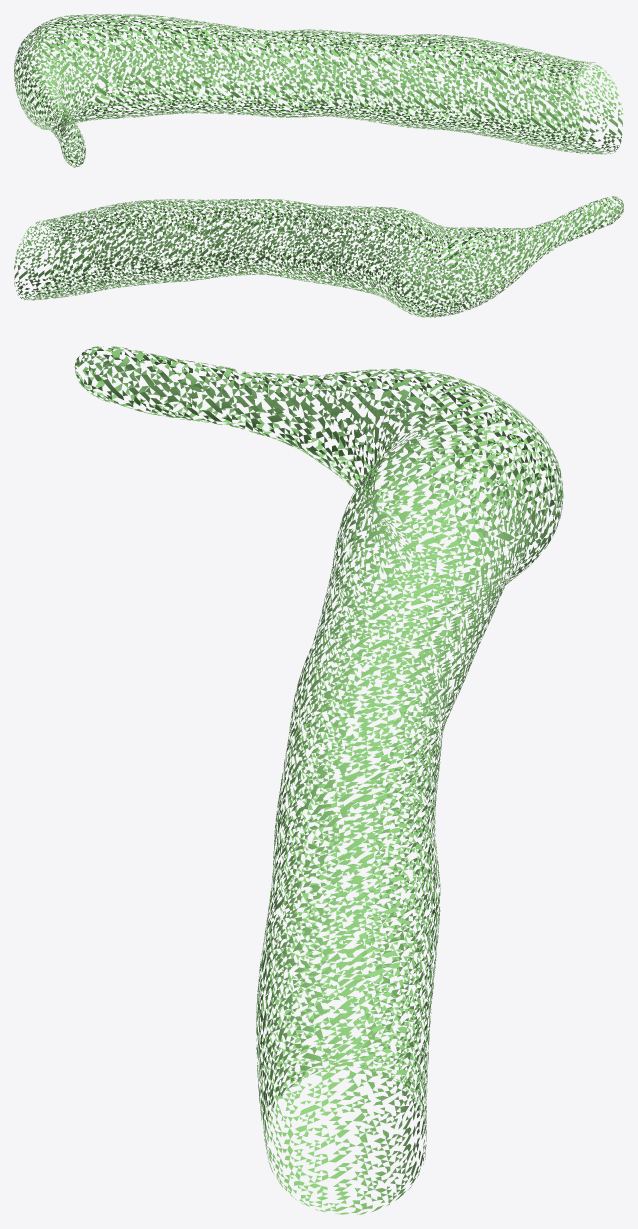
The model's file is morph_015.glb.
The picture shows the model from 3 angles, top to bottom: view 1: azimuth 30°, elevation 25°; view 2: azimuth 150°, elevation 25°; view 3: azimuth 270°, elevation 25°; orthographic projection. The views are drawn at different scales.
Size of the model in its own units: 121 by 42.67 by 48.6.
